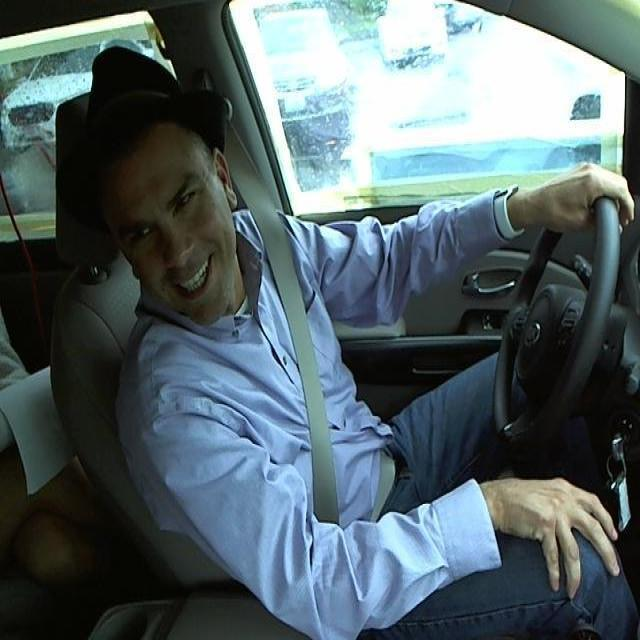seatbelt: (136, 102, 387, 571)
